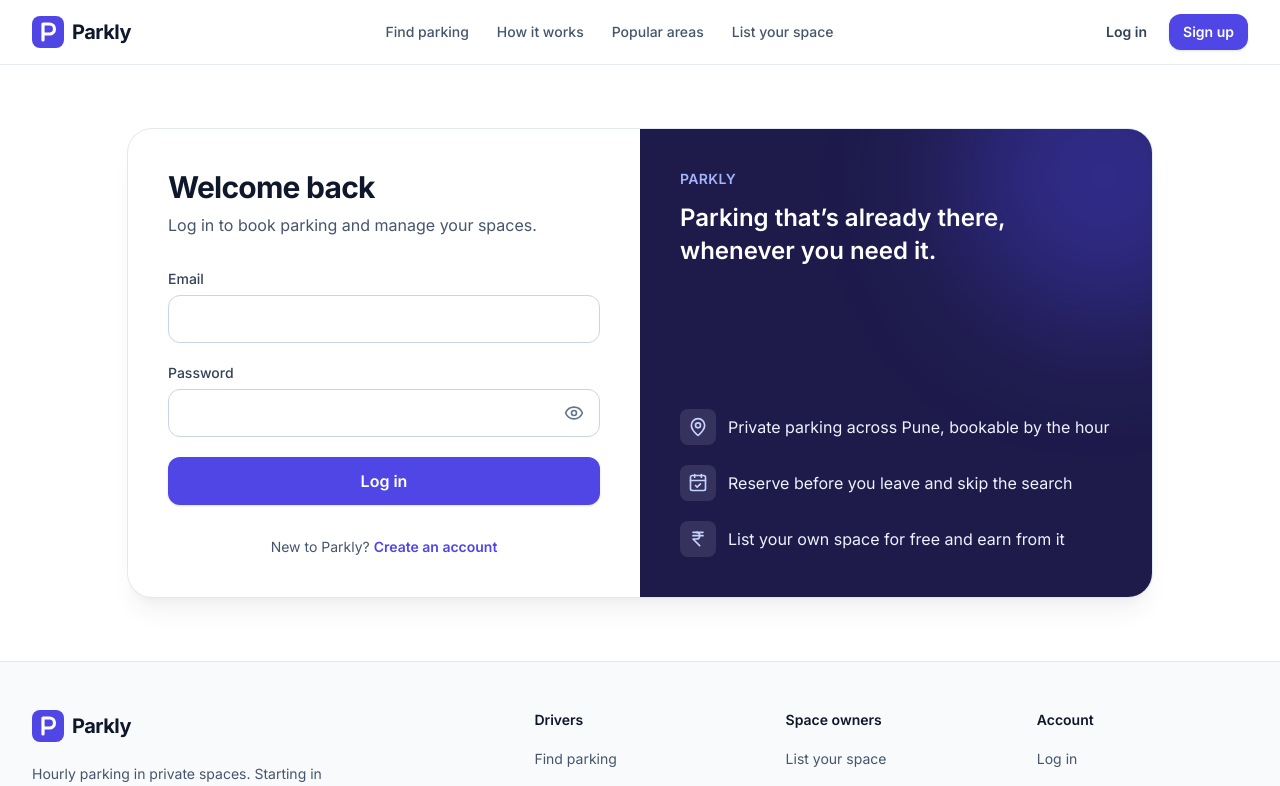
Test: Login › shows a friendly message when the API is unreachable
Type "priya@example.com" into the field labelled "Email".
click(384, 319); type("priya@example.com")  # box [168, 295, 600, 343]
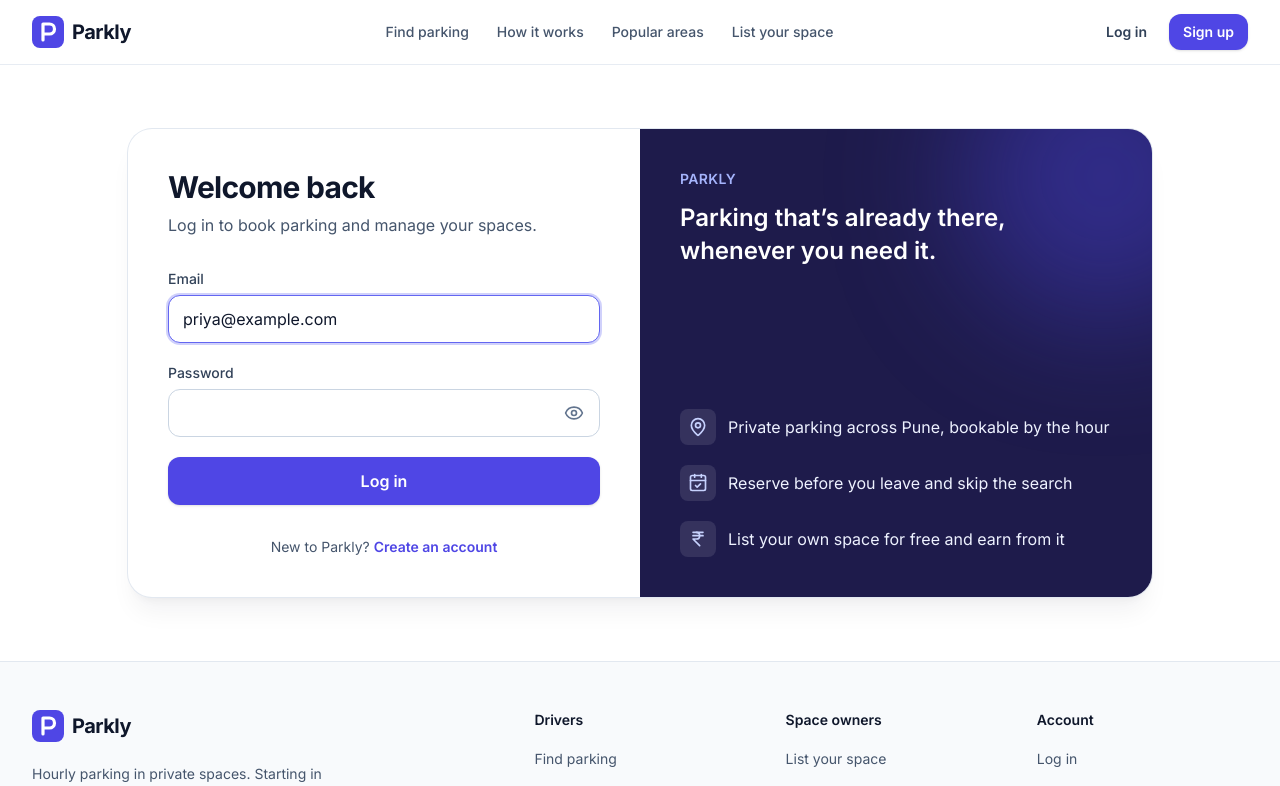
Type "secret123" into the password field labelled "Password".
click(384, 413); type("secret123")  # box [168, 389, 600, 437]
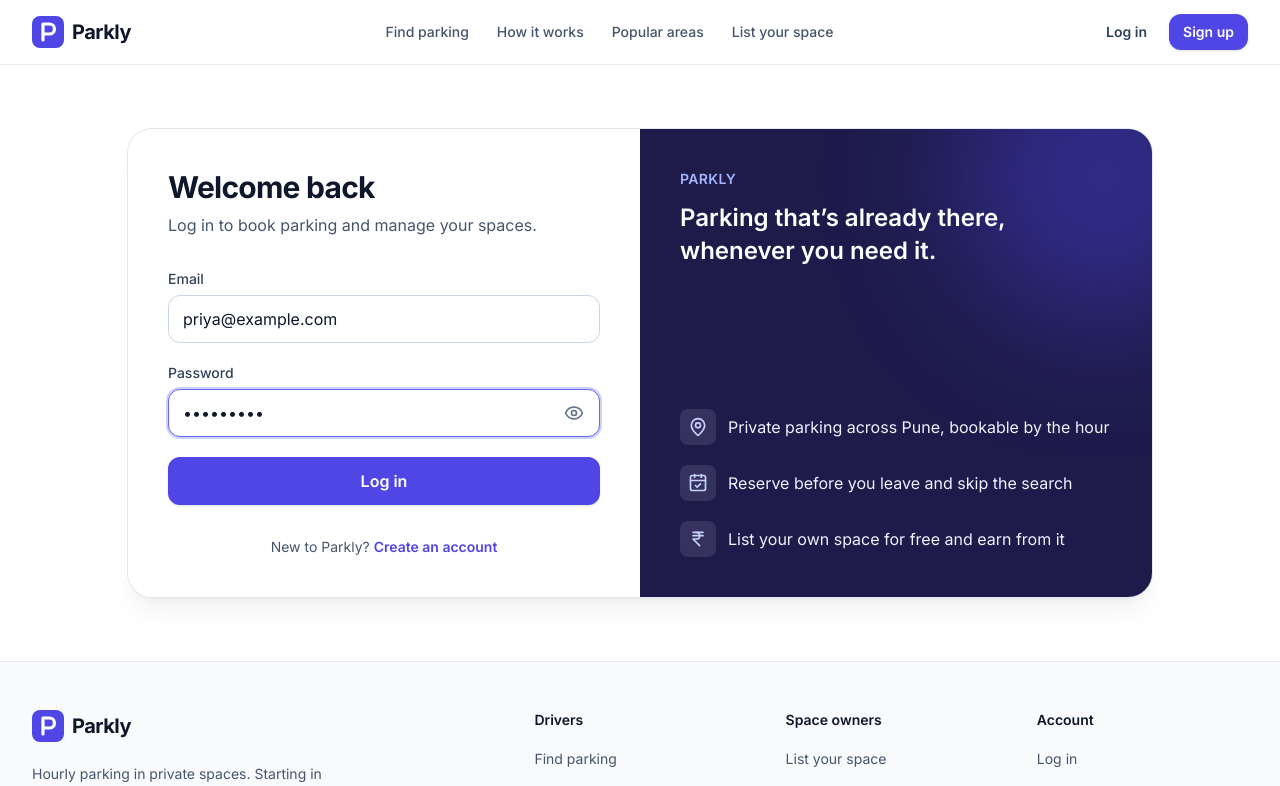
Click the button "Log in".
click(384, 481)  # box [168, 457, 600, 505]
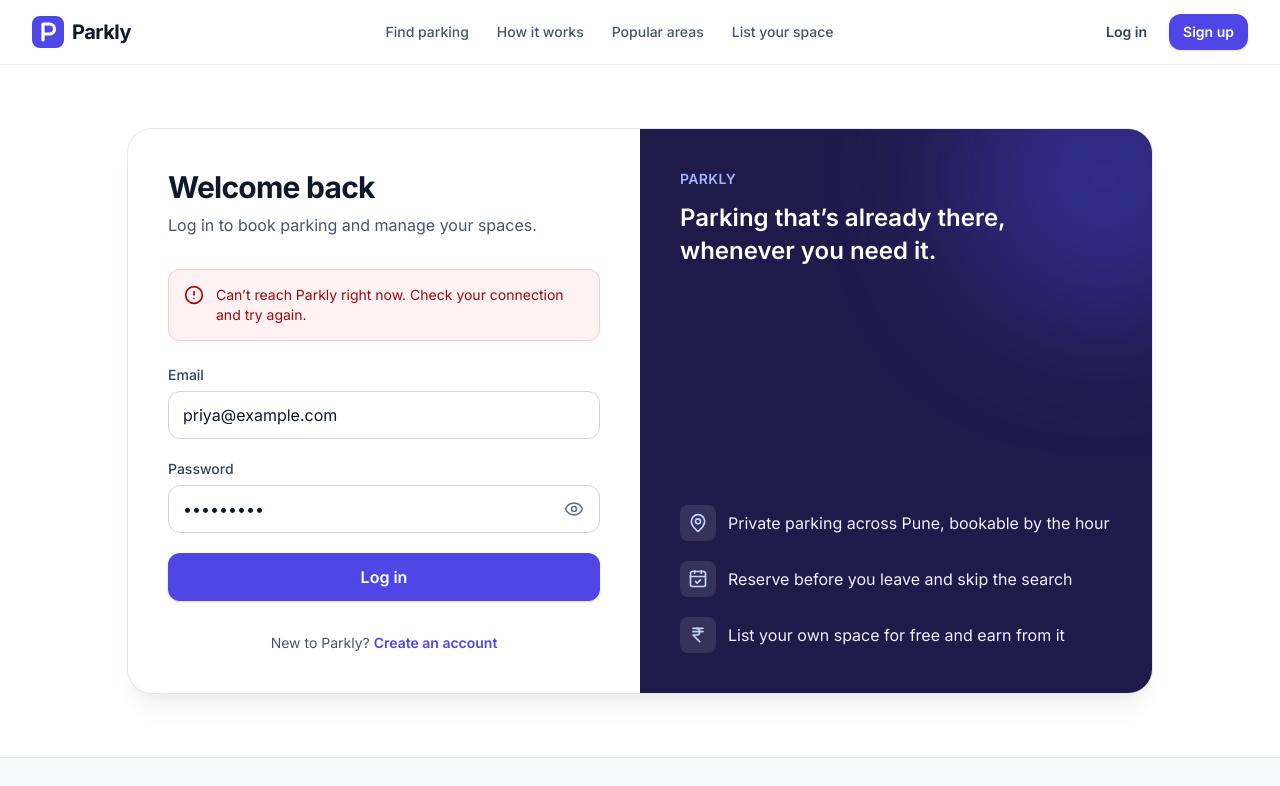
Now the message shows "Can’t reach Parkly", box [216, 286, 564, 323]
